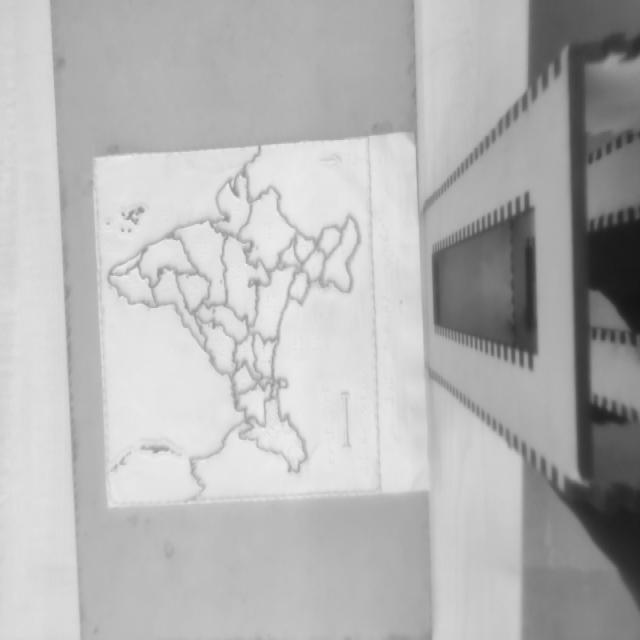map: (93, 137, 385, 505)
